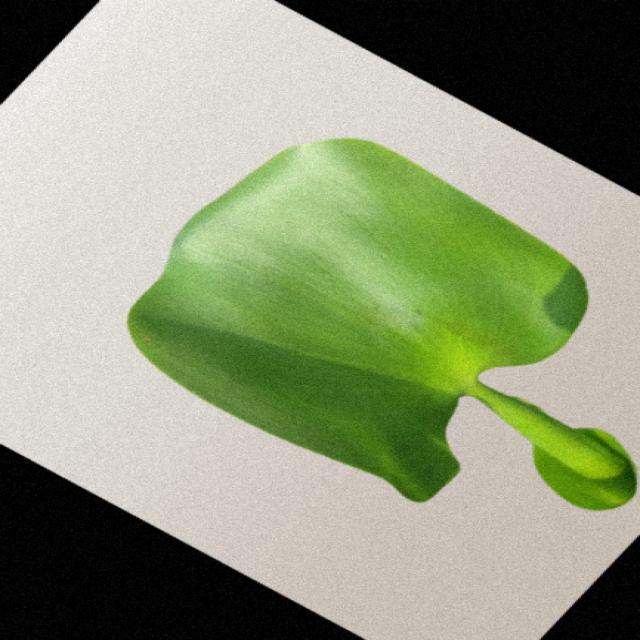daun sehat: (127, 139, 637, 510)
